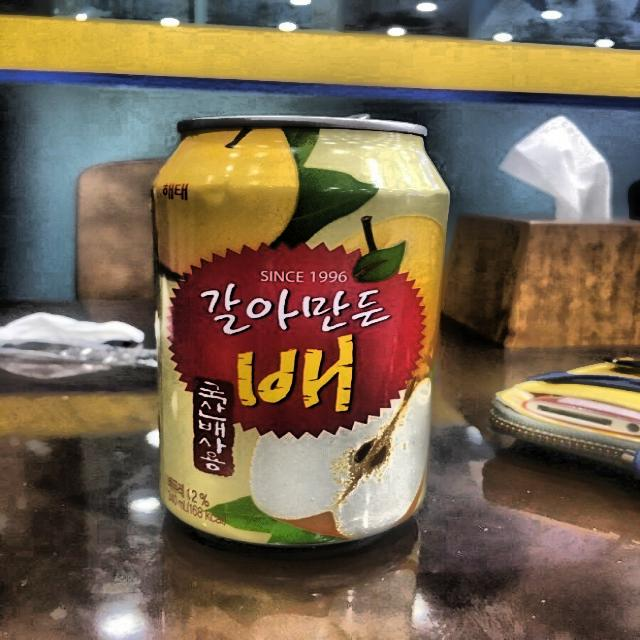galamandeunbae: (148, 116, 449, 552)
